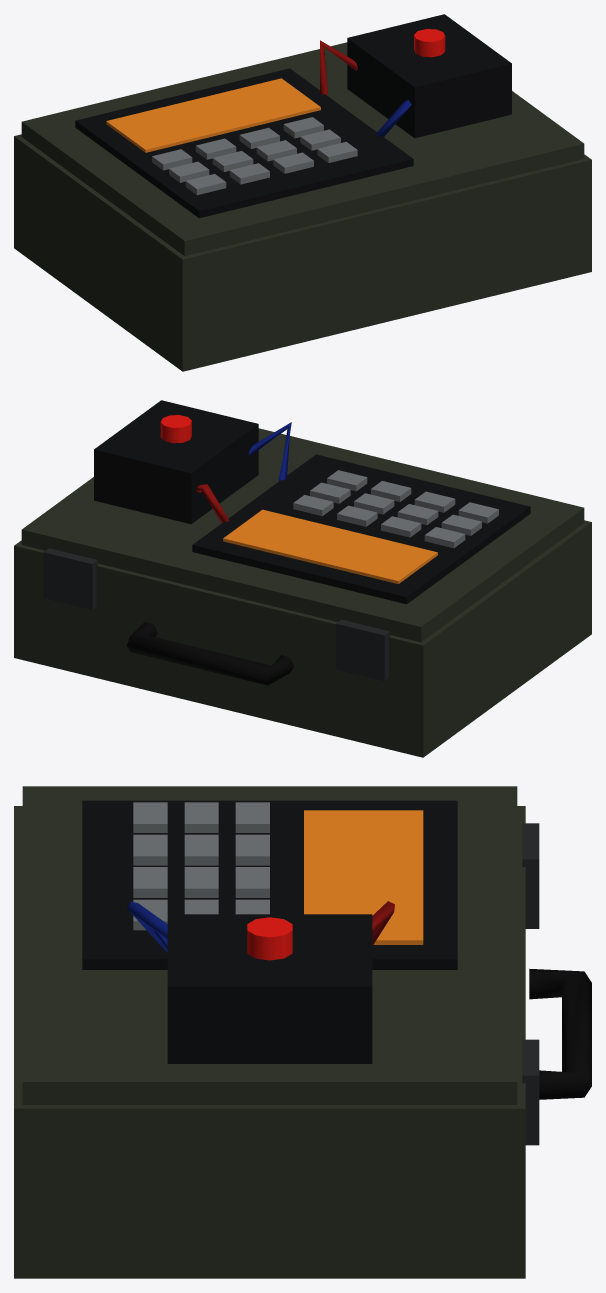
File: charge.gltf
3 renders of one model, top to bottom at view 1: azimuth 30°, elevation 25°; view 2: azimuth 150°, elevation 25°; view 3: azimuth 270°, elevation 25°, orthographic. The views are drawn at different scales.
Visible parts, largest first — view 1: charge; view 2: charge; view 3: charge.
Boxes of the visible parts, x1,y1,x2,y2 form: charge: (14, 14, 591, 371); charge: (14, 400, 591, 757); charge: (14, 786, 591, 1278).
Size of the model in its own units: 0.42 by 0.19 by 0.3388.
